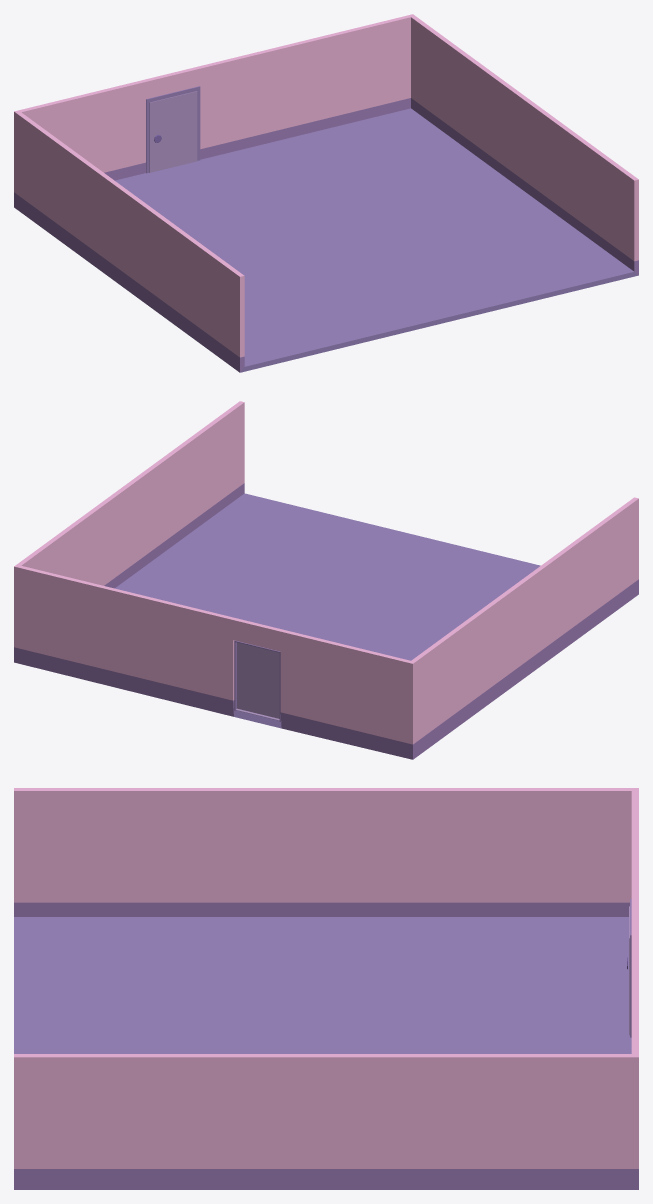
The model's file is Map01.fbx.
The picture shows the model from 3 angles, top to bottom: view 1: azimuth 30°, elevation 25°; view 2: azimuth 150°, elevation 25°; view 3: azimuth 270°, elevation 25°; orthographic projection. The views are drawn at different scales.
Parts seen in each view (by area): view 1: Map 1, Door; view 2: Map 1, Door; view 3: Map 1.
Boxes of the visible parts, x1=… form: Map 1: x1=14, y1=14, x2=638, y2=372; Door: x1=149, y1=91, x2=197, y2=172; Map 1: x1=14, y1=401, x2=638, y2=759; Door: x1=236, y1=642, x2=279, y2=720; Map 1: x1=14, y1=788, x2=638, y2=1189.
Size of the model in its own units: 17.26 by 4.03 by 16.93.
